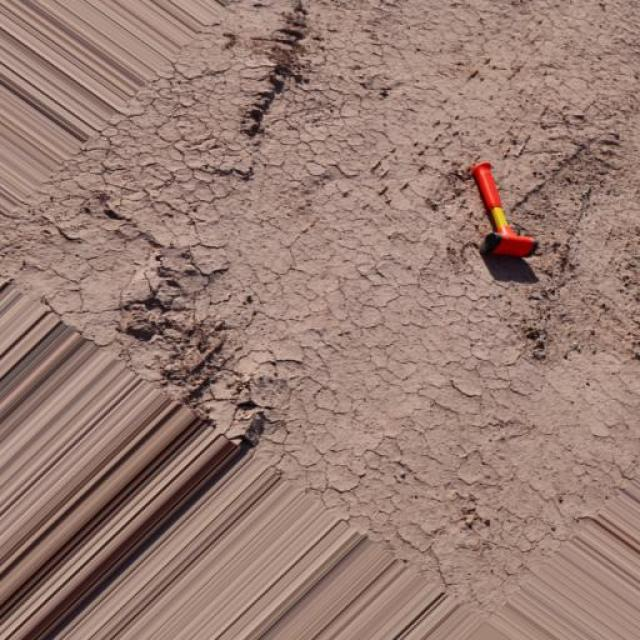mallet: (469, 160, 536, 259)
